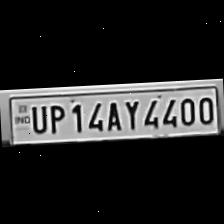0: (194, 92, 214, 124), (176, 94, 194, 124)
1: (64, 100, 84, 132)
4: (82, 98, 104, 130), (139, 94, 159, 128), (158, 93, 176, 126)
A: (101, 97, 123, 130)
P: (44, 100, 66, 134)
U: (26, 101, 46, 133)
Y: (120, 96, 140, 130)
